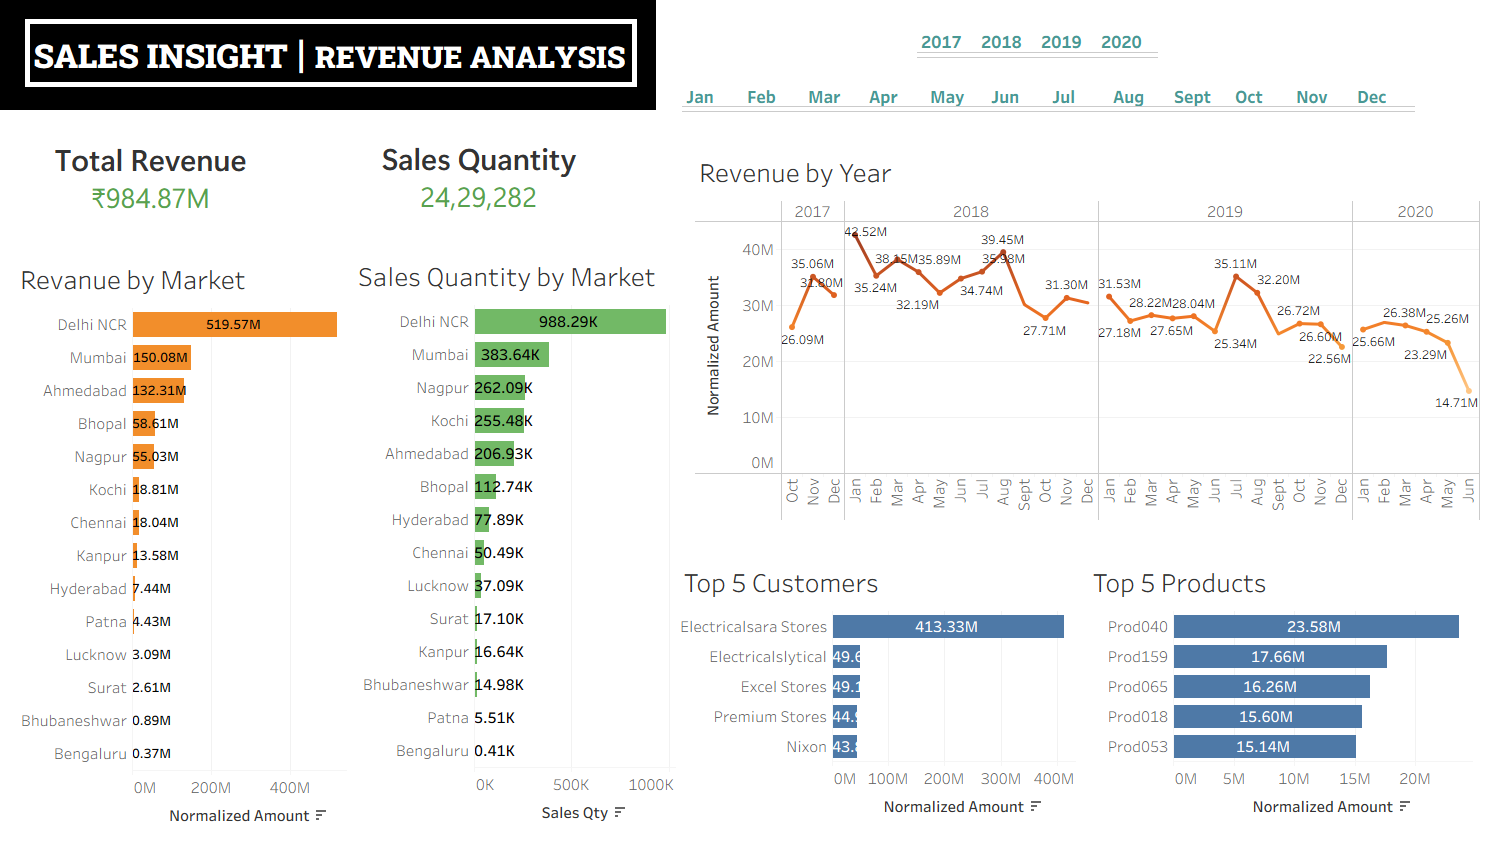

This screenshot's page, from the dashboard's own definition file:
{"tool":"tableau","page":{"name":"Dashboard- Revenue Analysis","canvas":[1500,900],"ordinal":1},"visuals":[{"type":"blank","box":[11,13,656,110]},{"type":"text","box":[32,28,620,76]},{"type":"worksheet","title":"Year","mark":"Automatic","cols":["cy_date"],"box":[928,29,253,49]},{"type":"worksheet","title":"Month","mark":"Automatic","cols":["cy_date"],"box":[693,84,791,51]},{"type":"worksheet","title":"Quantity","mark":"Automatic","box":[380,136,250,106]},{"type":"worksheet","title":"Revenue","mark":"Automatic","box":[62,137,210,105]},{"type":"worksheet","title":"Revenue by Year","mark":"Automatic","rows":["Calculation_792915037487079424"],"cols":["cy_date","cy_date"],"box":[706,164,785,370]},{"type":"worksheet","title":"Sales Quantity by Market","mark":"Automatic","rows":["markets_name"],"cols":["sales_qty"],"box":[365,268,322,599]},{"type":"worksheet","title":"Revanue by Market","mark":"Automatic","rows":["markets_name"],"cols":["Calculation_792915037487079424"],"box":[27,271,331,607]},{"type":"worksheet","title":"Top 5 Customers","mark":"Automatic","rows":["custmer_name"],"cols":["Calculation_792915037487079424"],"box":[691,574,396,269]},{"type":"worksheet","title":"Top 5 Products","mark":"Automatic","rows":["product_code (products)"],"cols":["Calculation_792915037487079424"],"box":[1100,574,384,268]}]}

Visuals, with their boxes on the page's 1500x900 design canvas (x1, y1, x2, y2). These are canvas units, not pixel positions in the 1487x846 screenshot, which may show the page scaled, cropped or inside an application window:
blank: (left=11, top=13, right=667, bottom=123)
text: (left=32, top=28, right=652, bottom=104)
"Year" worksheet: (left=928, top=29, right=1181, bottom=78)
"Month" worksheet: (left=693, top=84, right=1484, bottom=135)
"Quantity" worksheet: (left=380, top=136, right=630, bottom=242)
"Revenue" worksheet: (left=62, top=137, right=272, bottom=242)
"Revenue by Year" worksheet: (left=706, top=164, right=1491, bottom=534)
"Sales Quantity by Market" worksheet: (left=365, top=268, right=687, bottom=867)
"Revanue by Market" worksheet: (left=27, top=271, right=358, bottom=878)
"Top 5 Customers" worksheet: (left=691, top=574, right=1087, bottom=843)
"Top 5 Products" worksheet: (left=1100, top=574, right=1484, bottom=842)
